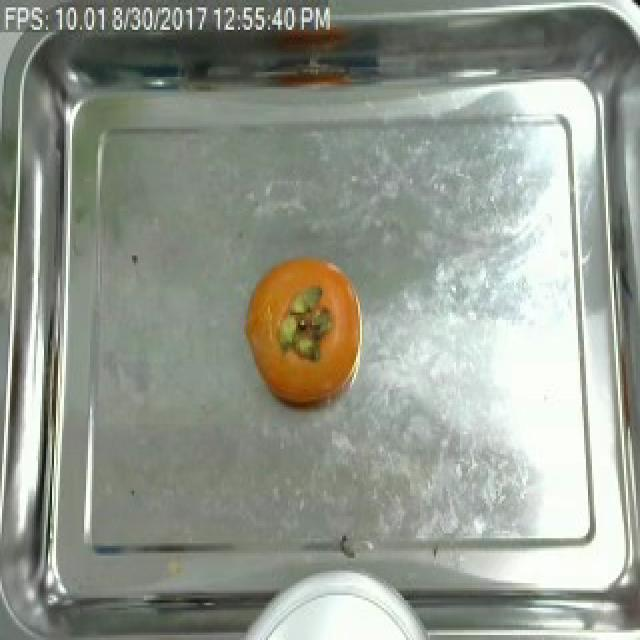Fruit: (240, 250, 366, 407)
